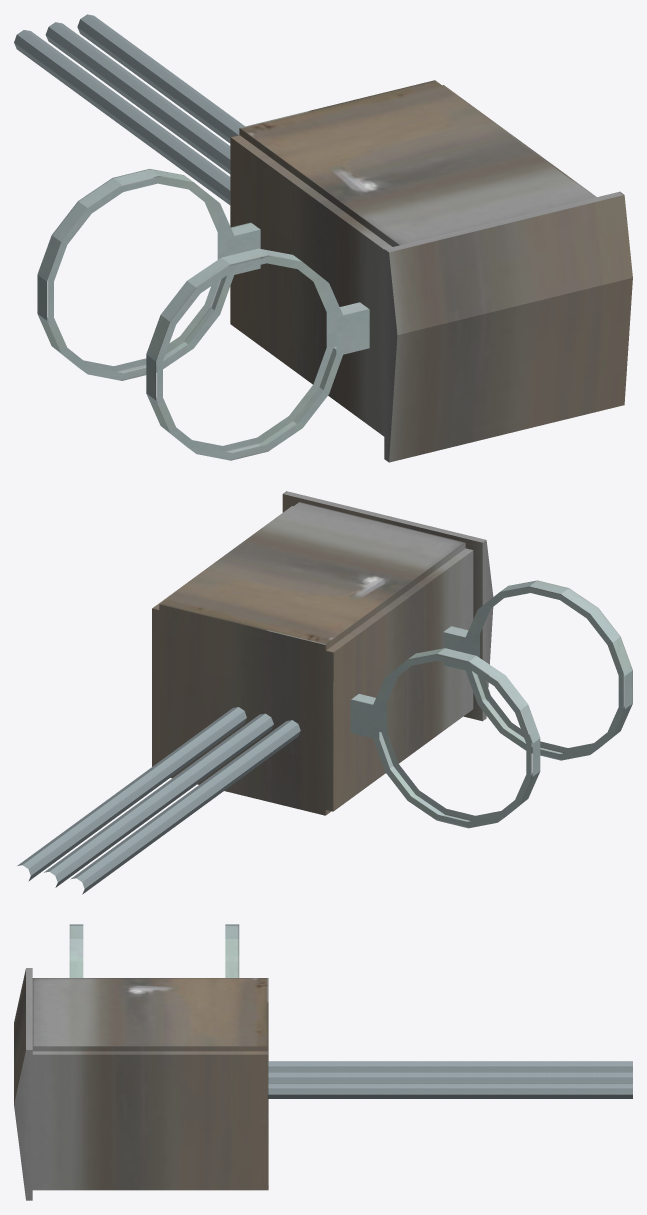
The model's file is pj-063-geode.glb.
The picture shows the model from 3 angles, top to bottom: view 1: azimuth 30°, elevation 25°; view 2: azimuth 150°, elevation 25°; view 3: azimuth 270°, elevation 25°; orthographic projection. The views are drawn at different scales.
Parts seen in each view (by area): view 1: Node; view 2: Node; view 3: Node.
Part boxes in pixels (x1=…): Node: x1=14, y1=14, x2=632, y2=462; Node: x1=17, y1=491, x2=632, y2=894; Node: x1=14, y1=924, x2=632, y2=1200.
Size of the model in its own units: 0.9929 by 0.455 by 1.7.
2 materials, 2 textured.
